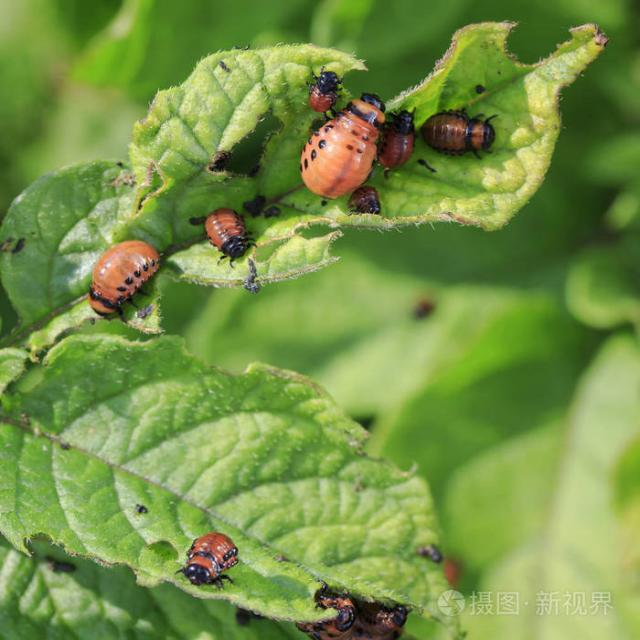ShuCaiHuaBanChong-Larva-: (288, 85, 392, 199), (74, 225, 163, 322), (180, 504, 243, 600), (409, 97, 501, 159), (193, 206, 268, 259)
